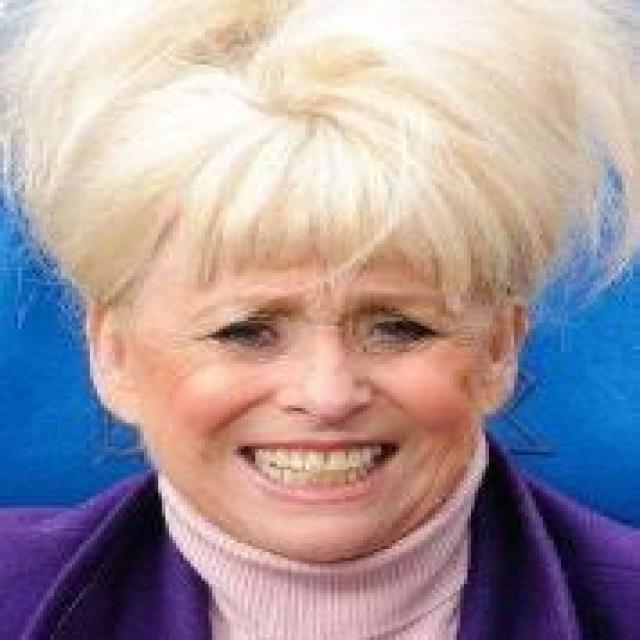nomask: (79, 124, 529, 582)
